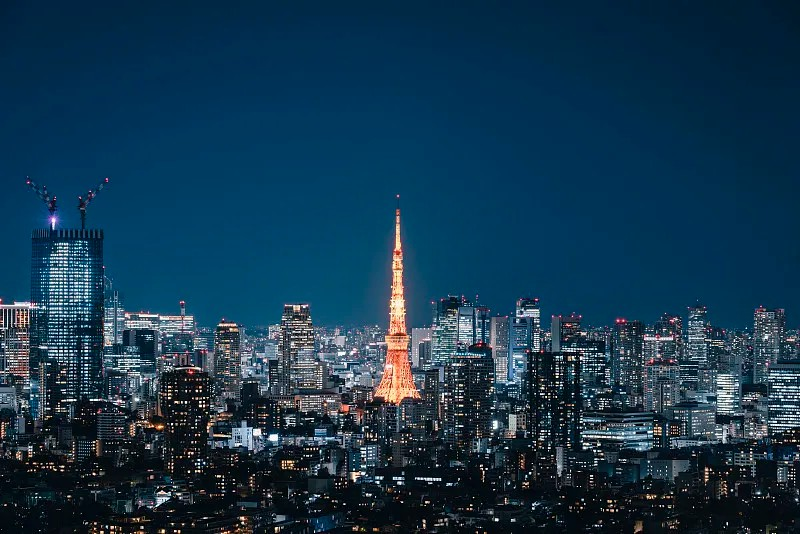Tokyo: (376, 191, 421, 407)
